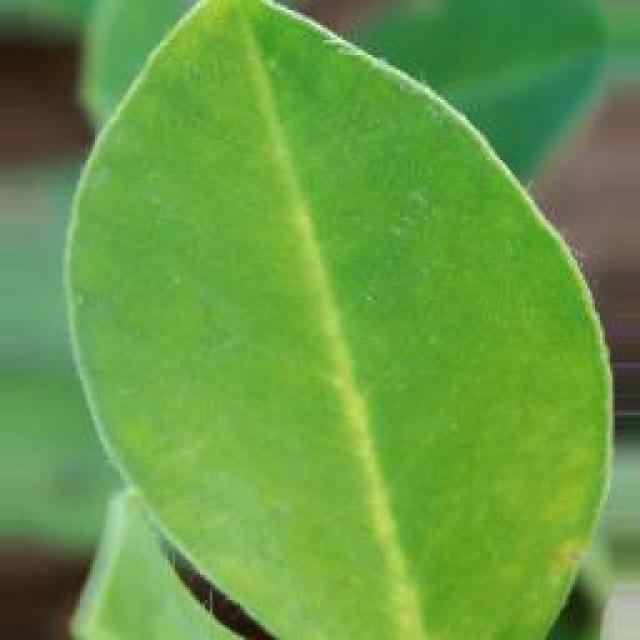Yellow_and_black_sigatoka: (68, 1, 614, 640)
